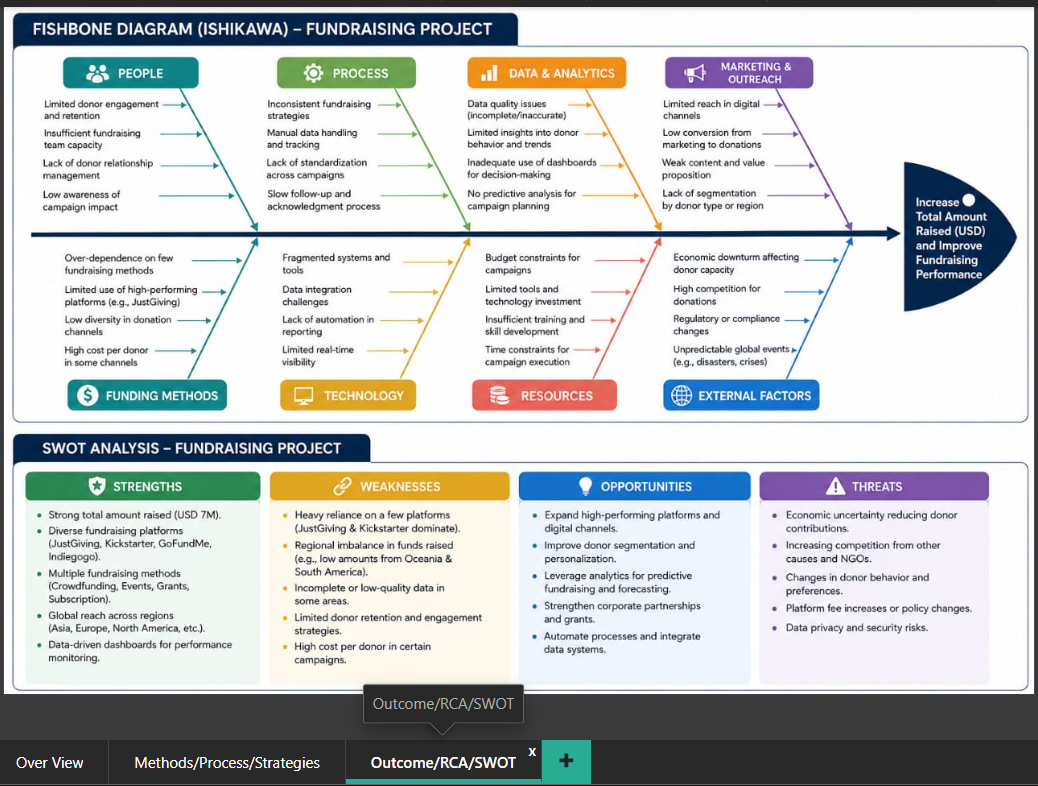

The dashboard page shown, as its layout file describes it:
{"tool":"powerbi","page":{"name":"Outcome/RCA/SWOT","canvas":[1280,720],"ordinal":2},"visuals":[{"type":"image","box":[0,0,1280,674.1],"z":1001}]}

Visuals, with their boxes on the page's 1280x720 design canvas (x1, y1, x2, y2). These are canvas units, not pixel positions in the 1038x786 screenshot, which may show the page scaled, cropped or inside an application window:
image: rect(0, 0, 1280, 674)
